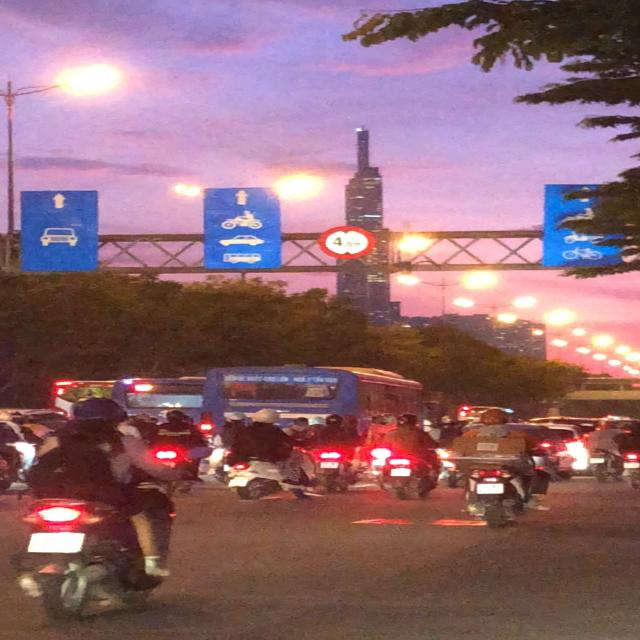Bien bao han che chieu cao: (313, 223, 383, 265)
